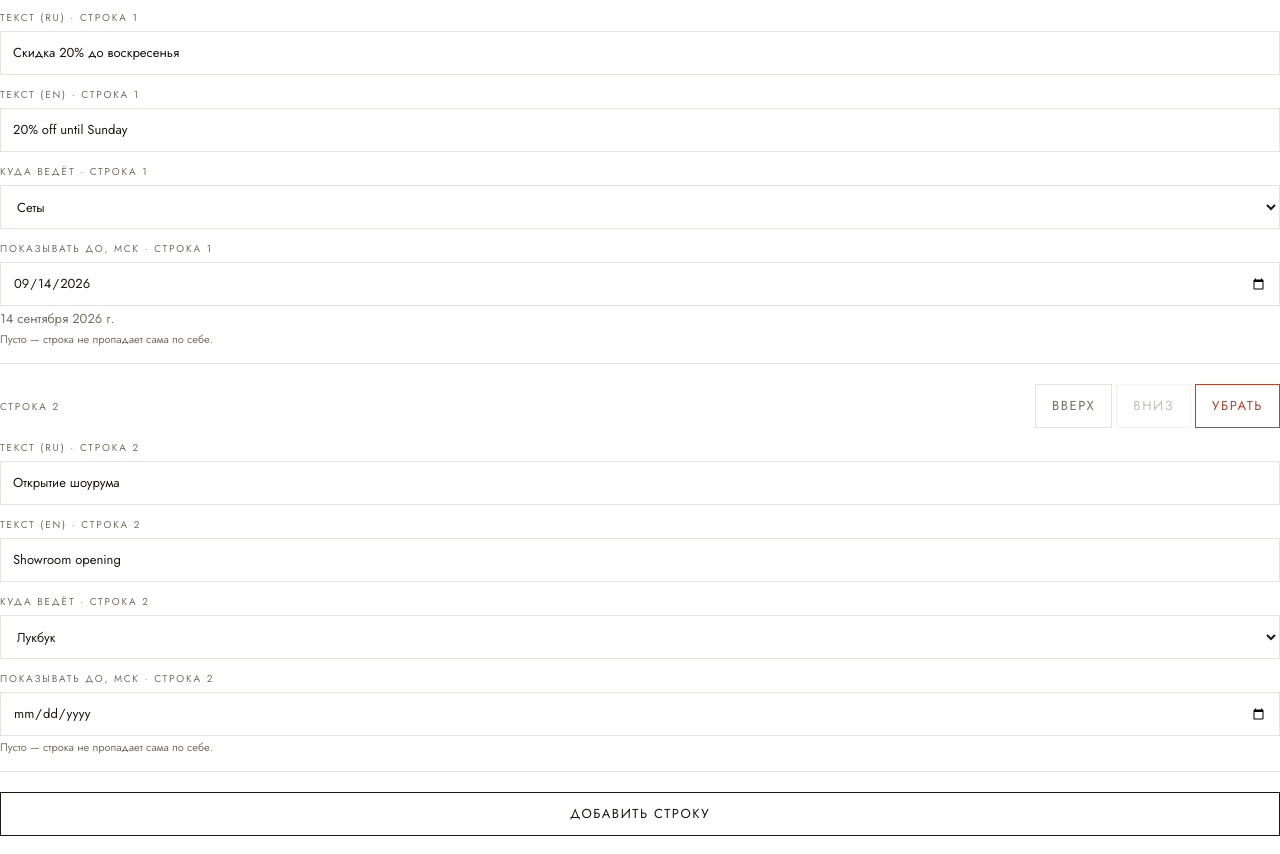
Scenario: строки списка — не изменившееся поведение › «Добавить строку» заводит пустую строку с «Без ссылки» по умолчанию
The image size is (1280, 854).
Click the button "Добавить строку": [640, 814] box x1=0 y1=792 x2=1279 y2=836
(page scrolled)
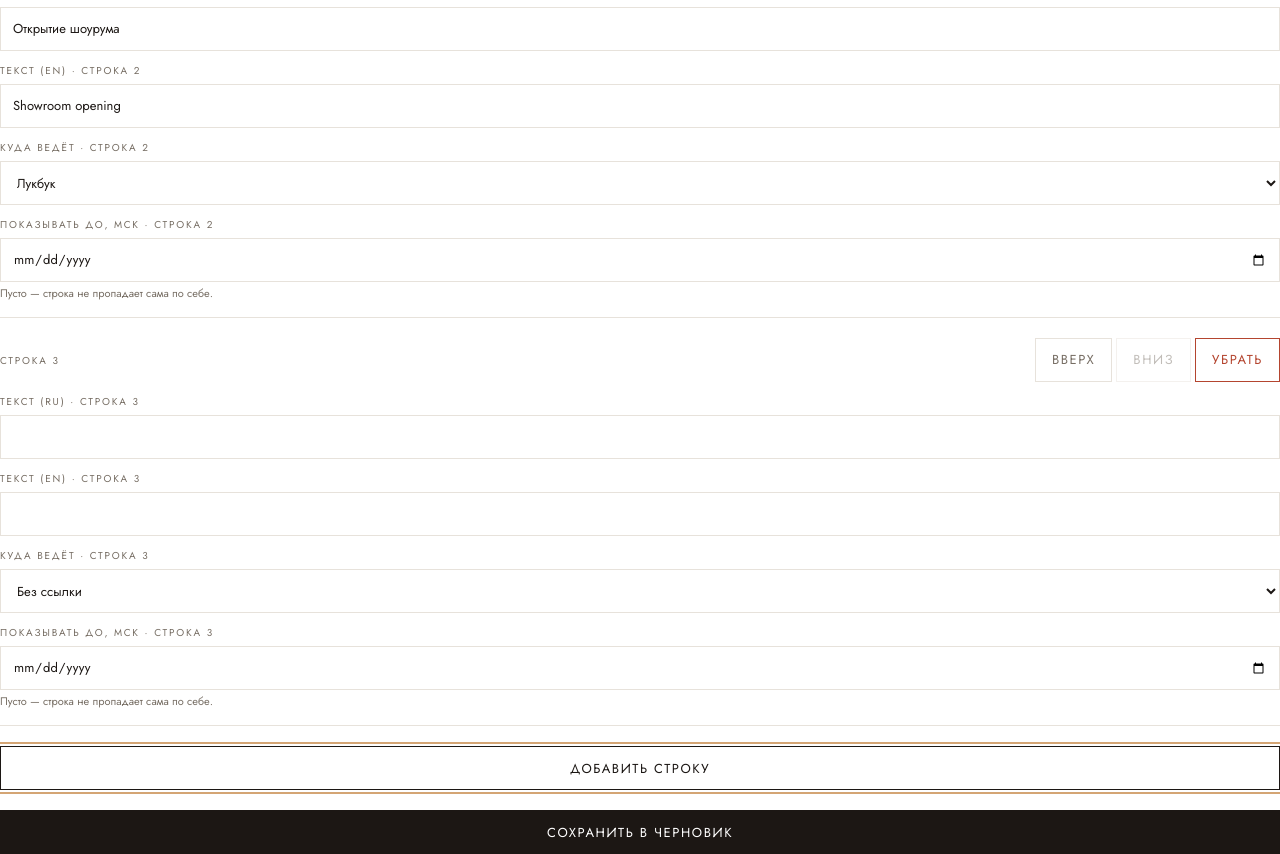
Now the field labelled "Текст (ru) · строка 3" is empty, box x1=0 y1=415 x2=1279 y2=459
Now the dropdown labelled "Куда ведёт · строка 3" shows "Без ссылки", box x1=0 y1=569 x2=1279 y2=613
Now the button "Сохранить в черновик" is enabled, box x1=0 y1=810 x2=1279 y2=853
